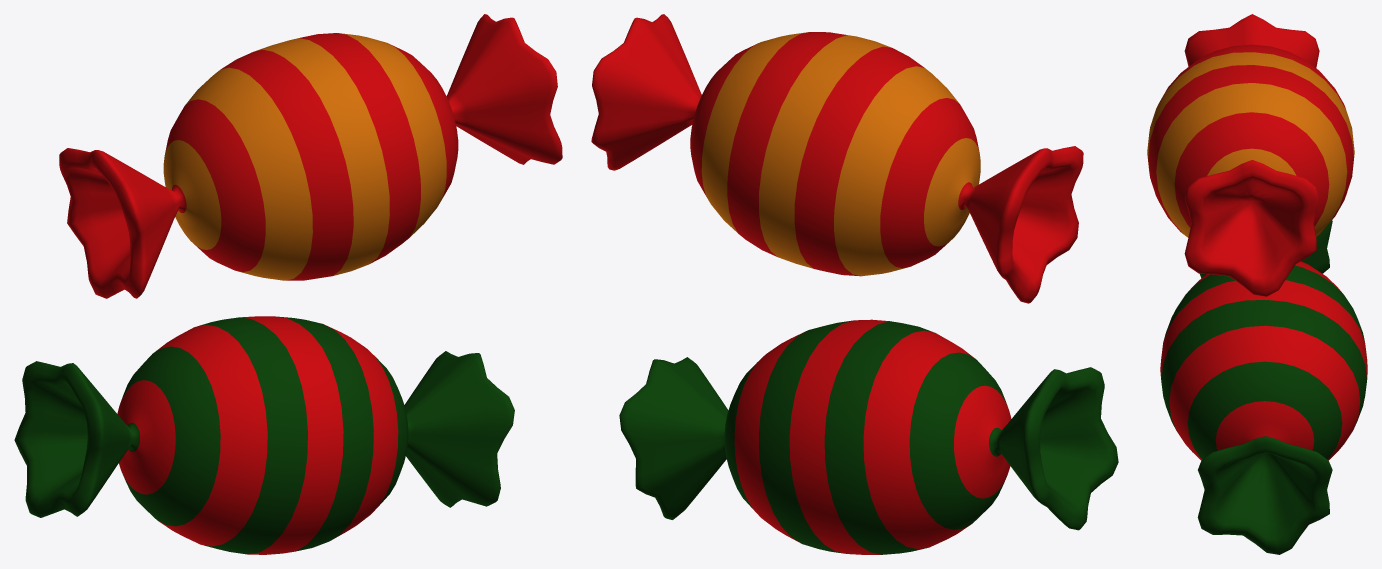
The model's file is candy.obj.
The picture shows the model from 3 angles, left to right: view 1: azimuth 30°, elevation 25°; view 2: azimuth 150°, elevation 25°; view 3: azimuth 270°, elevation 25°; orthographic projection. The views are drawn at different scales.
Visible parts, largest first — view 1: Cylinder.019_Cylinder.023, Cylinder.018_Cylinder.019; view 2: Cylinder.019_Cylinder.023, Cylinder.018_Cylinder.019; view 3: Cylinder.018_Cylinder.019, Cylinder.019_Cylinder.023.
Boxes of the visible parts, x1,y1,x2,y2 form: Cylinder.019_Cylinder.023: [59, 14, 562, 298]; Cylinder.018_Cylinder.019: [14, 316, 514, 554]; Cylinder.019_Cylinder.023: [591, 14, 1083, 303]; Cylinder.018_Cylinder.019: [619, 319, 1118, 554]; Cylinder.018_Cylinder.019: [1160, 220, 1367, 554]; Cylinder.019_Cylinder.023: [1147, 14, 1354, 296].
Bounding box in the file's own units: 2.76 × 2.73 × 1.27.
